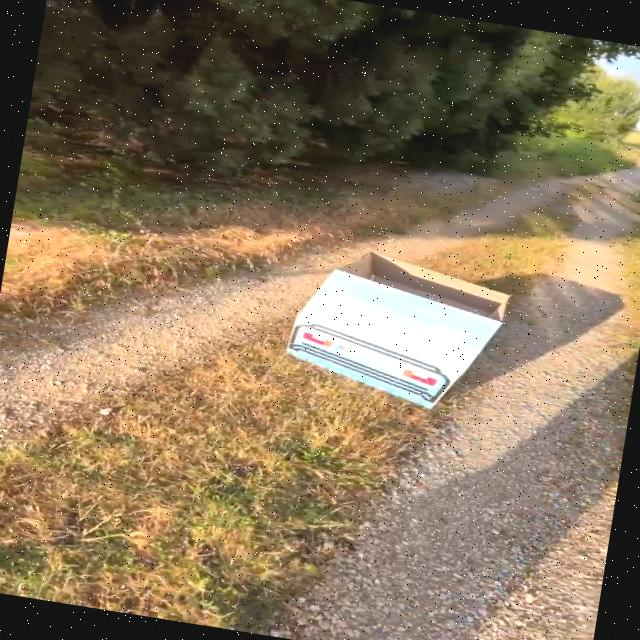blue_car: (209, 217, 564, 457)
